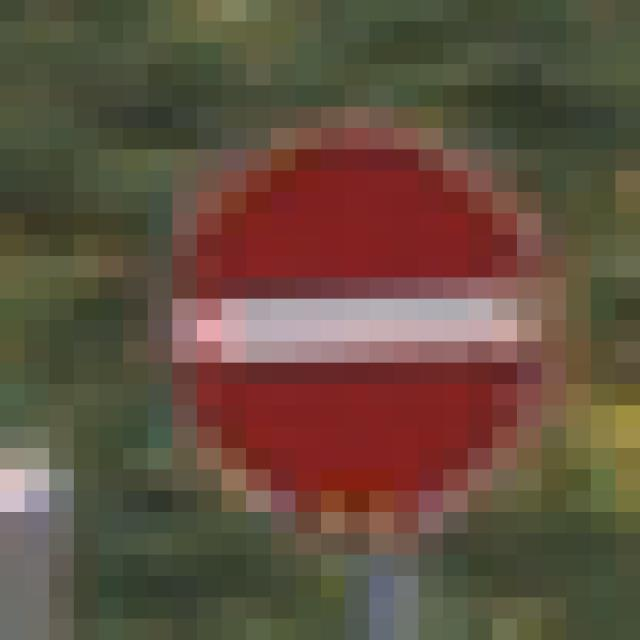No Entry: (124, 108, 493, 513)
